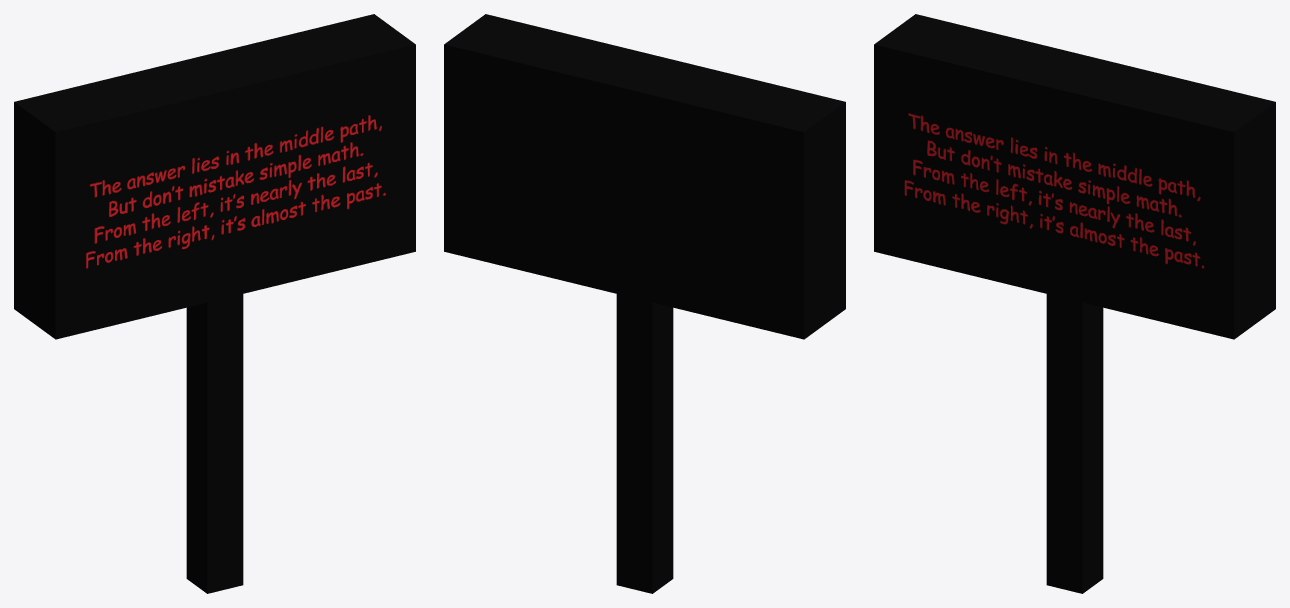
Rendered from RiddleSign.glb.
3 views of the same model, side by side, from view 1: azimuth 30°, elevation 25°; view 2: azimuth 150°, elevation 25°; view 3: azimuth 330°, elevation 25° (orthographic).
Parts seen in each view (by area): view 1: Cube; view 2: Cube; view 3: Cube.
Part boxes in pixels (x1,y1,x2,y2): Cube: (14, 14, 415, 593); Cube: (444, 14, 845, 593); Cube: (874, 14, 1275, 593).
Size of the model in its own units: 2 by 2.7 by 0.4.
1 material, 1 textured.
